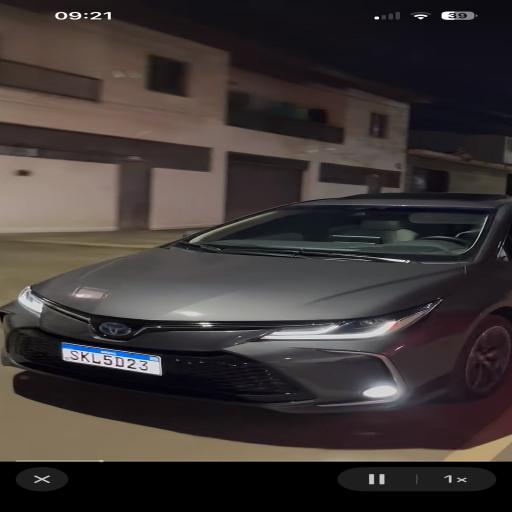detec-o-placas: (38, 326, 210, 399)
